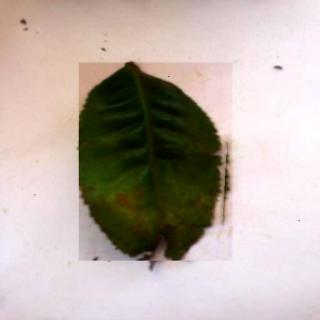Brown Blight: (80, 64, 235, 262)
